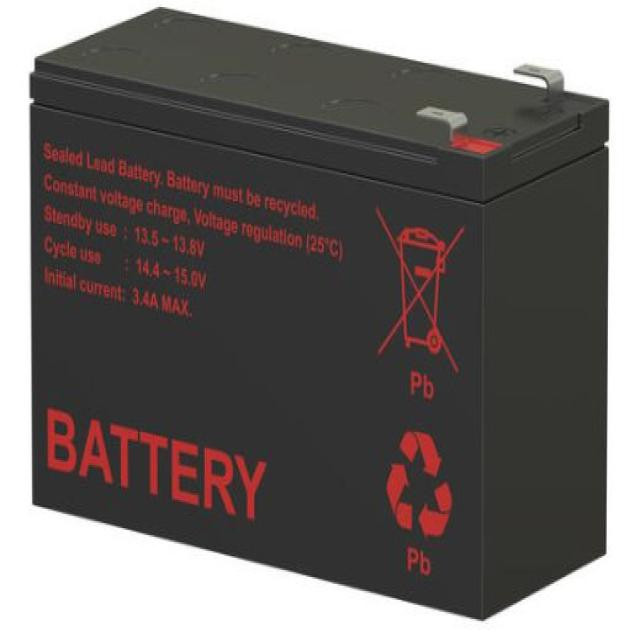electronic: (14, 6, 628, 640)
